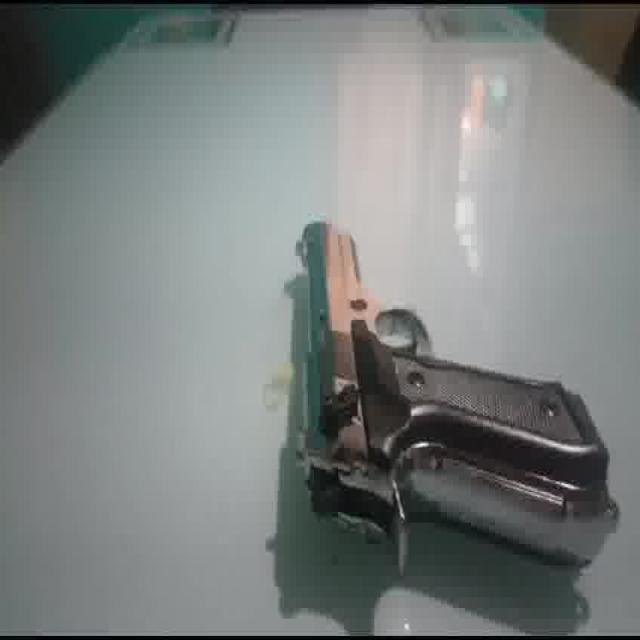weapon: (287, 215, 619, 577)
